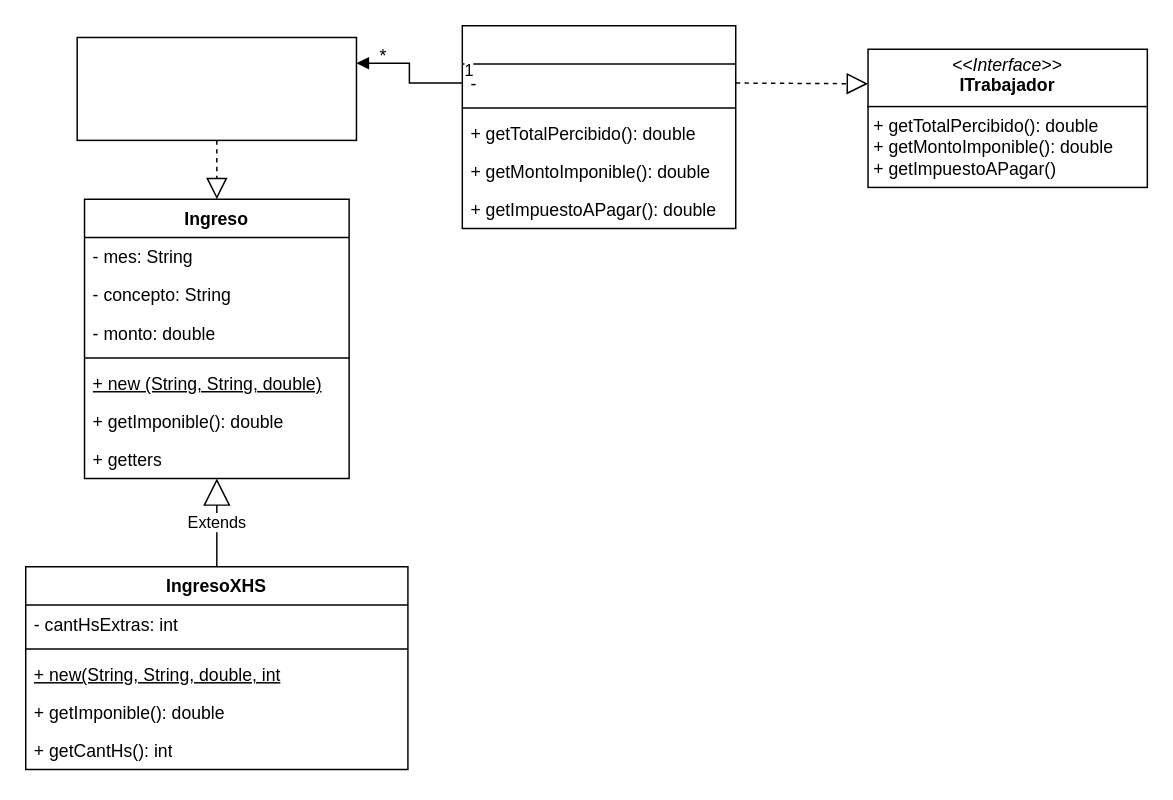
Some shapes in this 1173 by 800 pixel diagram are drawn without their labels. The shapes that lost their labels are listed below. From the top down, each one's box as (x1, y1, x2, y2) in pixels, then its label:
(76, 36, 356, 140): <<Interface>> Iingreso + getImponible(): double
(461, 24, 736, 229): Trabajador
